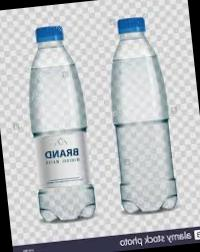plastic: (8, 14, 110, 225), (90, 8, 188, 204)
